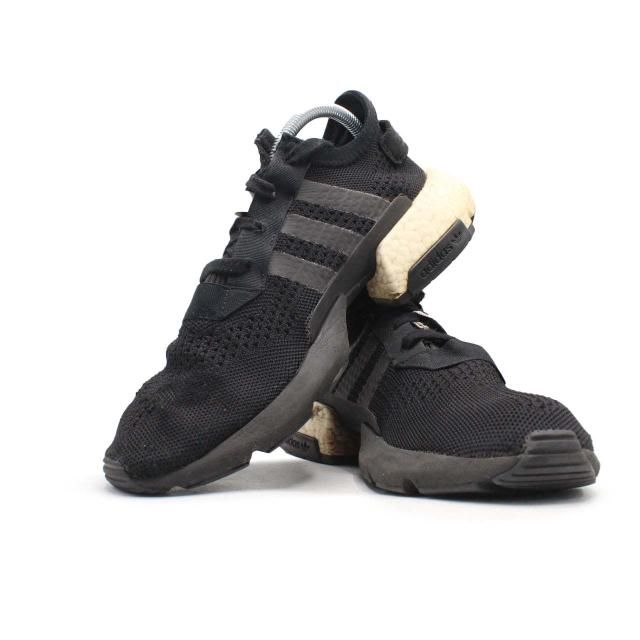heel: (345, 88, 425, 209)
midsole: (100, 169, 475, 498), (289, 405, 519, 498), (496, 433, 595, 495)
uppersole: (106, 127, 411, 474), (327, 313, 591, 454)
